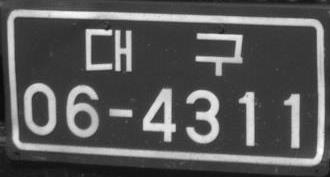0: (23, 82, 57, 136)
1: (275, 91, 308, 149), (232, 90, 266, 146)
3: (185, 87, 219, 144)
4: (142, 86, 176, 142)
6: (65, 83, 101, 137)
대구_D: (84, 27, 243, 76)
